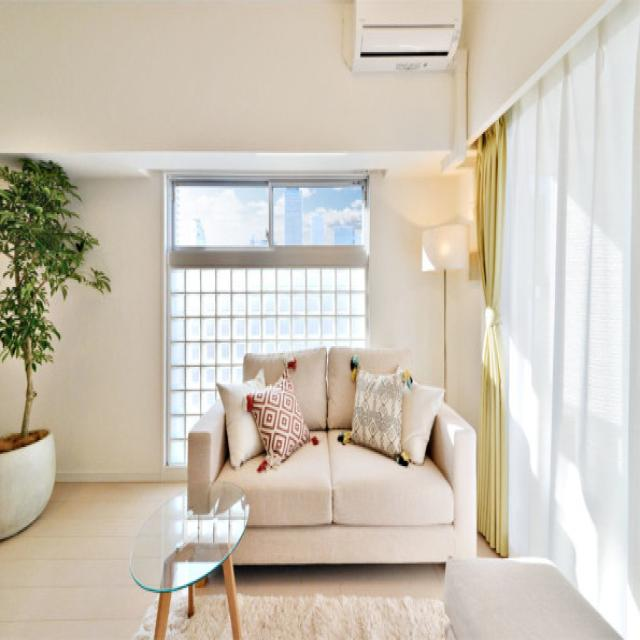natural sofa: (185, 343, 476, 565)
